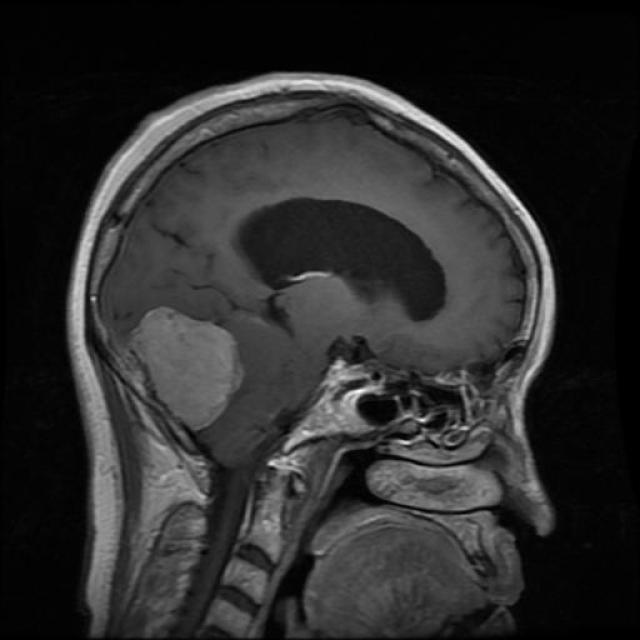meningioma: (131, 308, 246, 432)
